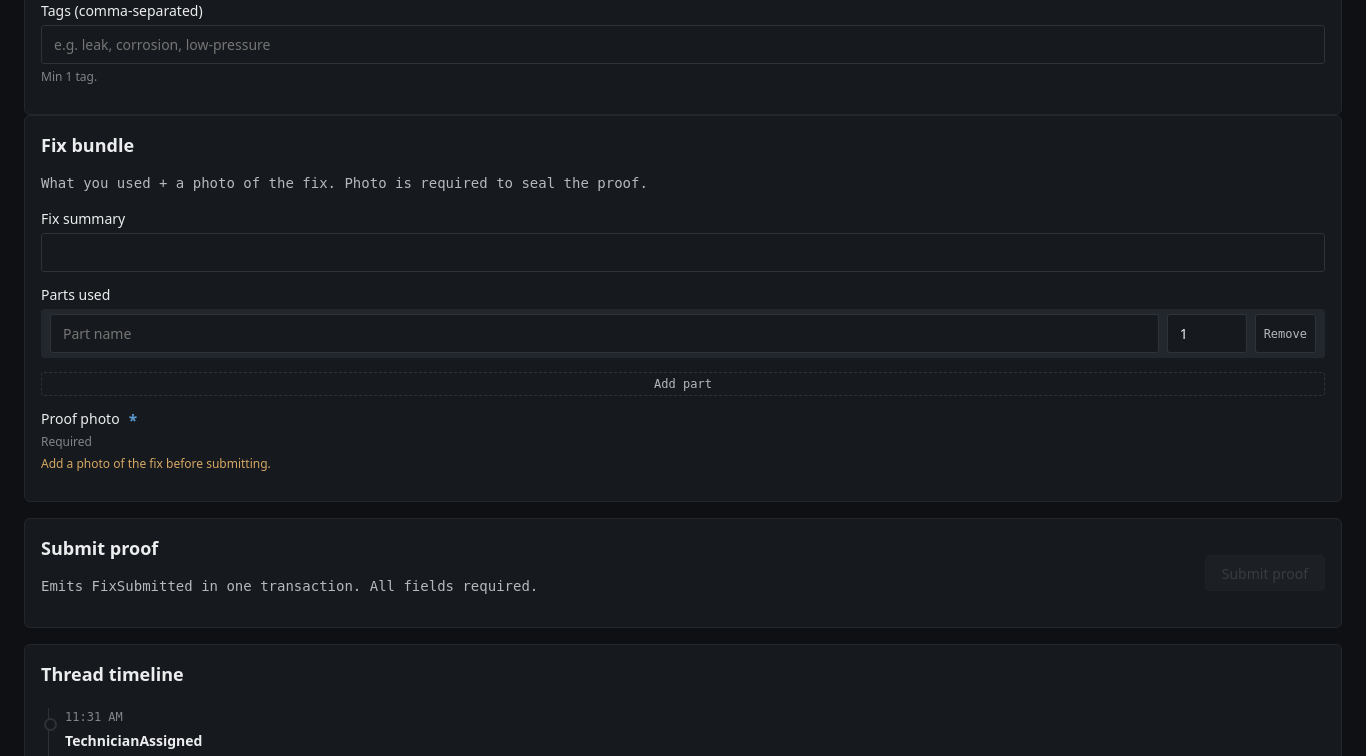
WO-007 Field Incident Detail reconciliation › fix form renders parts list with add/remove + submit proof disabled until photo_hash present
(page scrolled)
Expected: the form with test id "field-incident-detail-fix-form" is shown, [41, 208, 1325, 473]
Expected: the element with test id "field-incident-detail-parts-row-0" is shown, [41, 309, 1325, 358]
# Add a row → second row appears.
Click the button with test id "field-incident-detail-add-part": click(683, 384) [41, 372, 1325, 396]
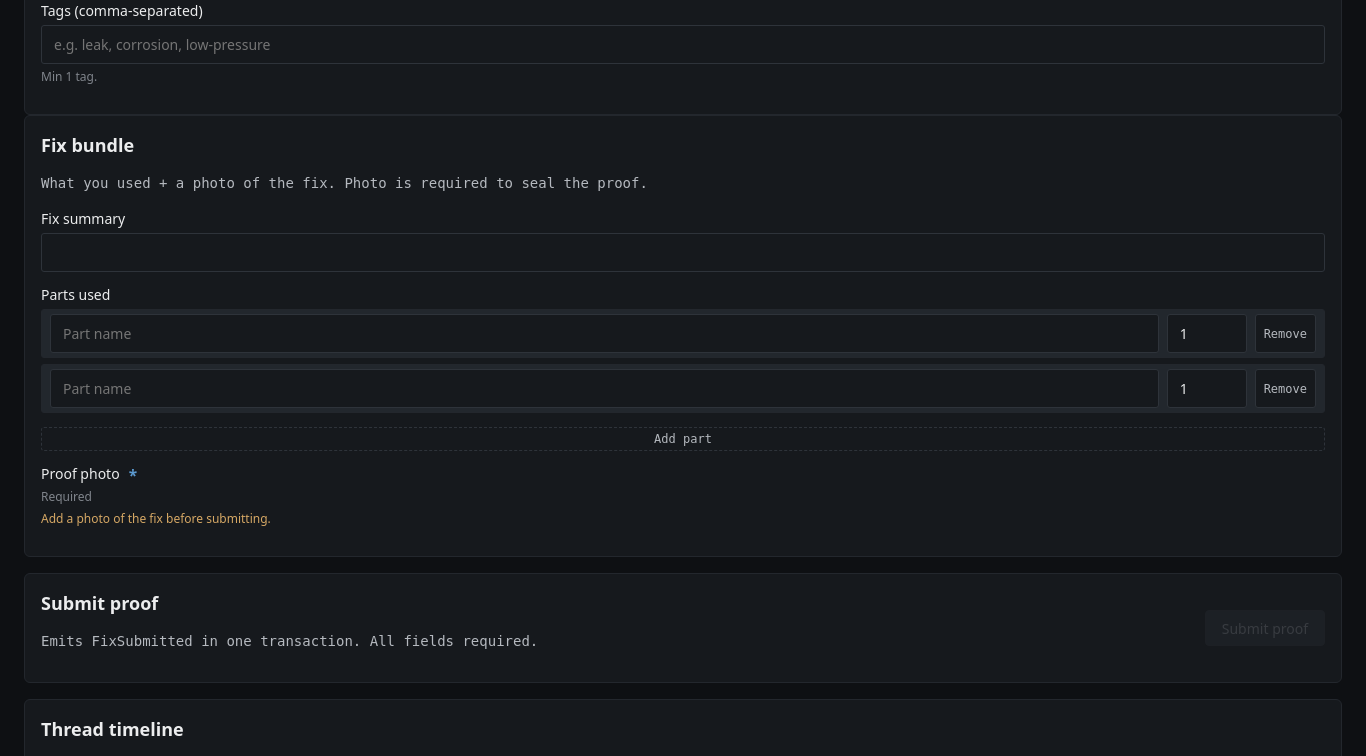
Now the element with test id "field-incident-detail-parts-row-1" is shown, box [41, 364, 1325, 413]
# Remove the second row → back to single row.
Click the button with test id "field-incident-detail-remove-part-1": click(1285, 389) [1255, 369, 1316, 408]
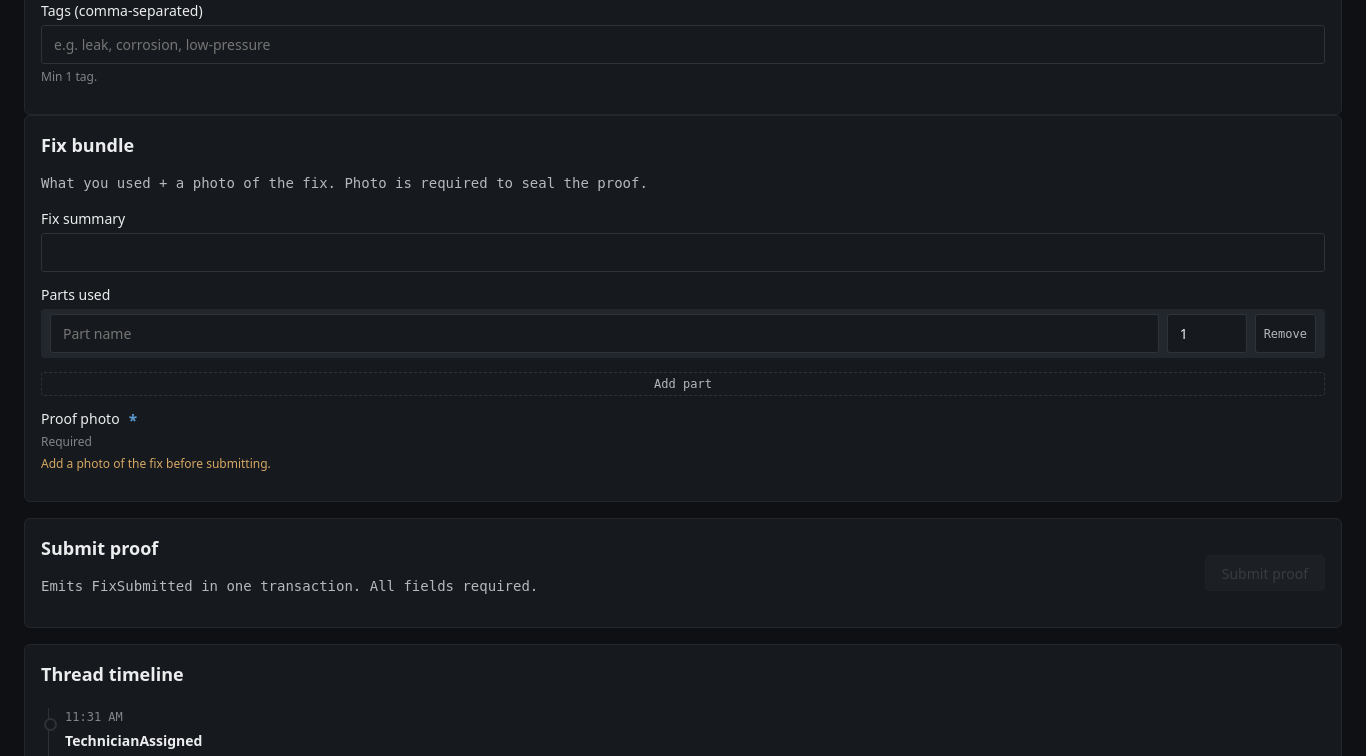
Expected: the button with test id "field-incident-detail-button-submit-proof" is disabled, [1205, 555, 1325, 591]
Now the element with test id "field-incident-detail-parts-row-1" is gone
